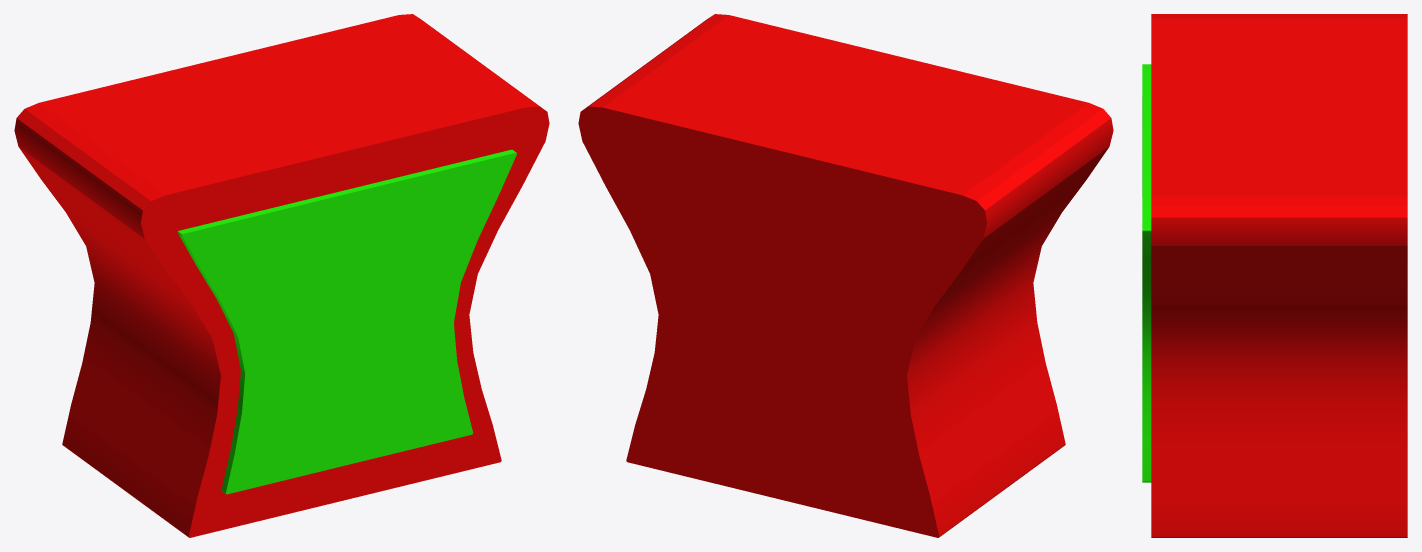
The model's file is umgebung_spiegelschrank_low.FBX.
3 views of the same model, side by side, from view 1: azimuth 30°, elevation 25°; view 2: azimuth 150°, elevation 25°; view 3: azimuth 270°, elevation 25° (orthographic).
Parts seen in each view (by area): view 1: o_spiegelschrank_low, o_schranktuer_low; view 2: o_spiegelschrank_low; view 3: o_spiegelschrank_low, o_schranktuer_low.
Part boxes in pixels (x1,y1,x2,y2): o_spiegelschrank_low: [14, 14, 549, 537]; o_schranktuer_low: [177, 149, 516, 494]; o_spiegelschrank_low: [578, 14, 1113, 537]; o_spiegelschrank_low: [1151, 14, 1407, 537]; o_schranktuer_low: [1142, 64, 1151, 482].
Size of the model in its own units: 163 by 90.17 by 133.
